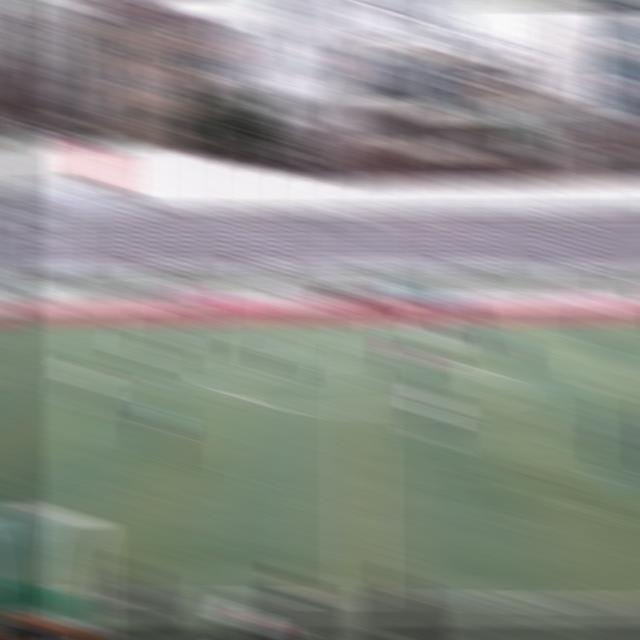halfcircle_bottom: (342, 397, 376, 425)
midline_top_intersection: (345, 313, 376, 331)
